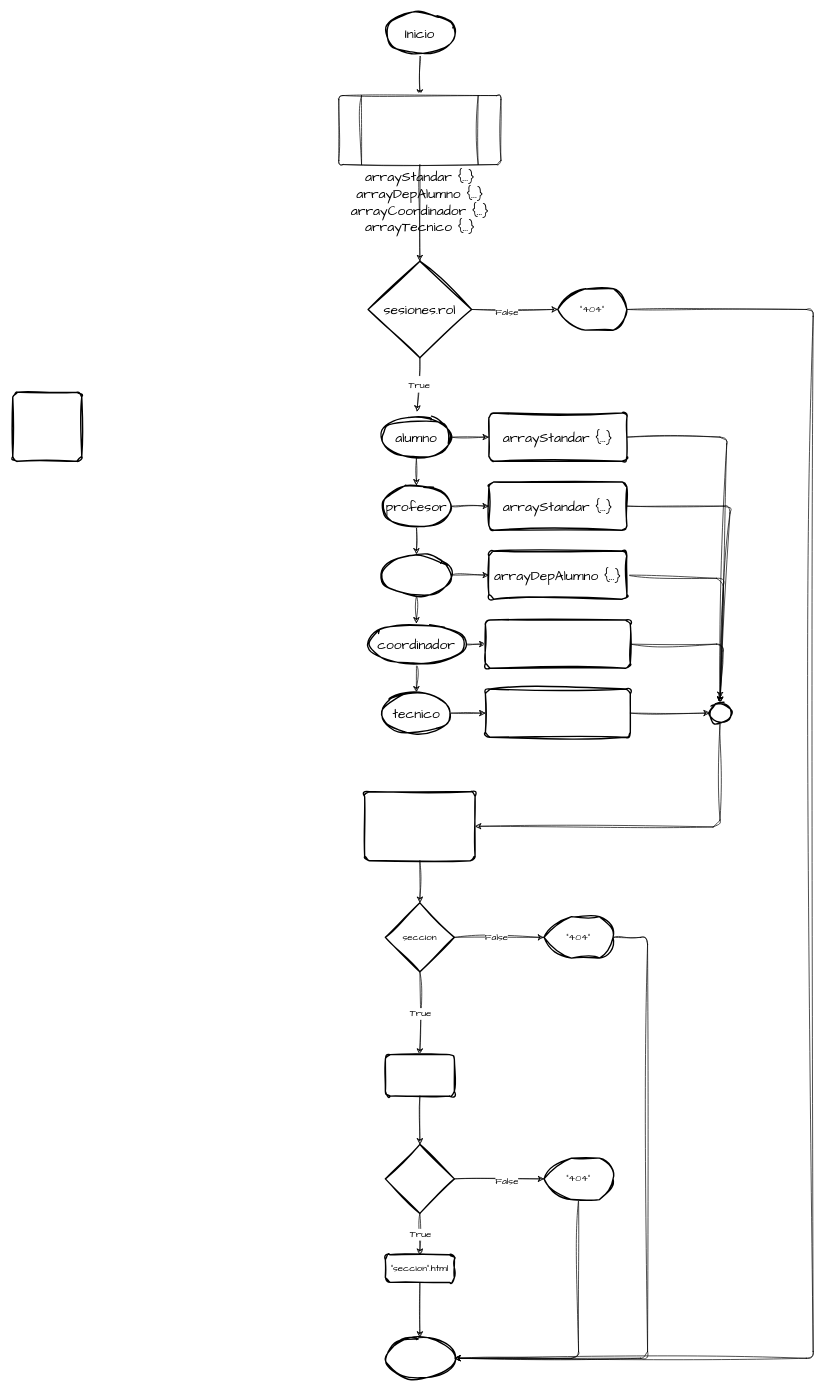
The diagram is 831 pixels wide and 1391 high, and some of its shapes have lost their labels. The centre of each missing label's shape, as x and y in pixels:
"arrayCoordinador {...}" belongs at (557,644).
"arrayTecnico {...}" belongs at (557,713).
"depAlumno" belongs at (416,574).
"el array correspondiente se mostrará en la etiqueta del nav" belongs at (419,826).
"existe path" belongs at (419,1178).
"Fin" belongs at (419,1358).
"inico panel calen" belongs at (47,426).
"utilizar el path" belongs at (419,1075).
